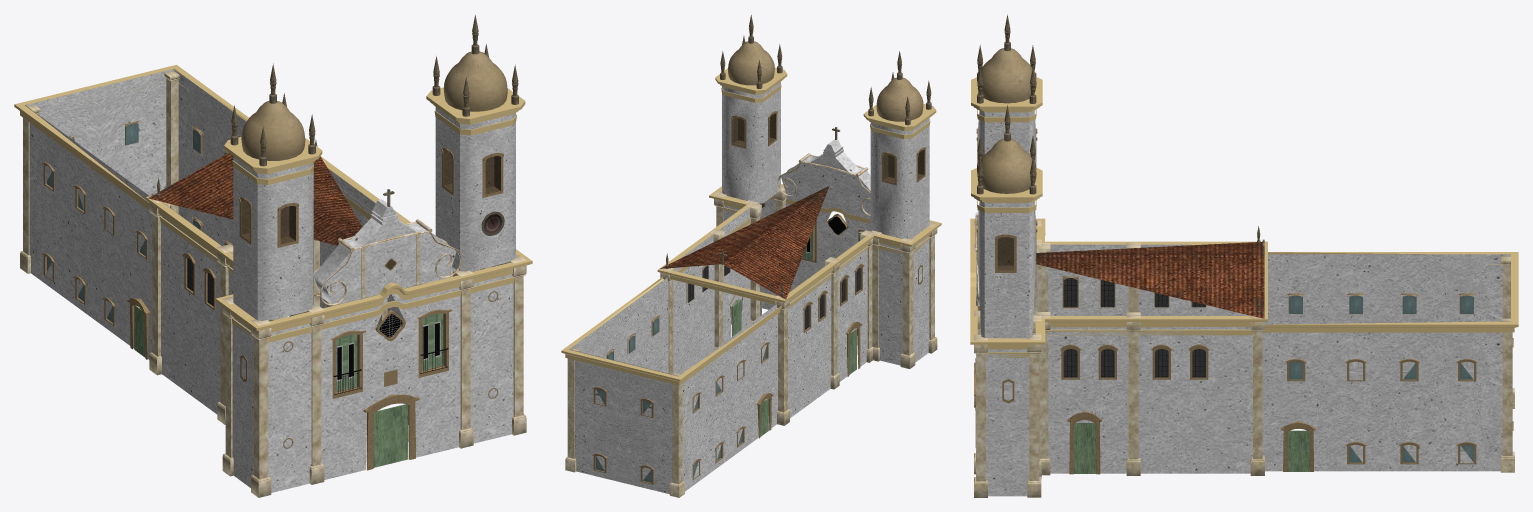
Rendered from z_igreja.glb.
3 views of the same model, side by side, from view 1: azimuth 30°, elevation 25°; view 2: azimuth 150°, elevation 25°; view 3: azimuth 270°, elevation 25° (orthographic). The views are drawn at different scales.
Parts seen in each view (by area): view 1: Igreja; view 2: Igreja; view 3: Igreja.
Part boxes in pixels (x1,y1,x2,y2): Igreja: (14,15,532,497); Igreja: (561,15,941,497); Igreja: (970,14,1518,497).
Size of the model in its own units: 11.22 by 16.07 by 21.05.
Materials: 6 (5 with a texture image).
